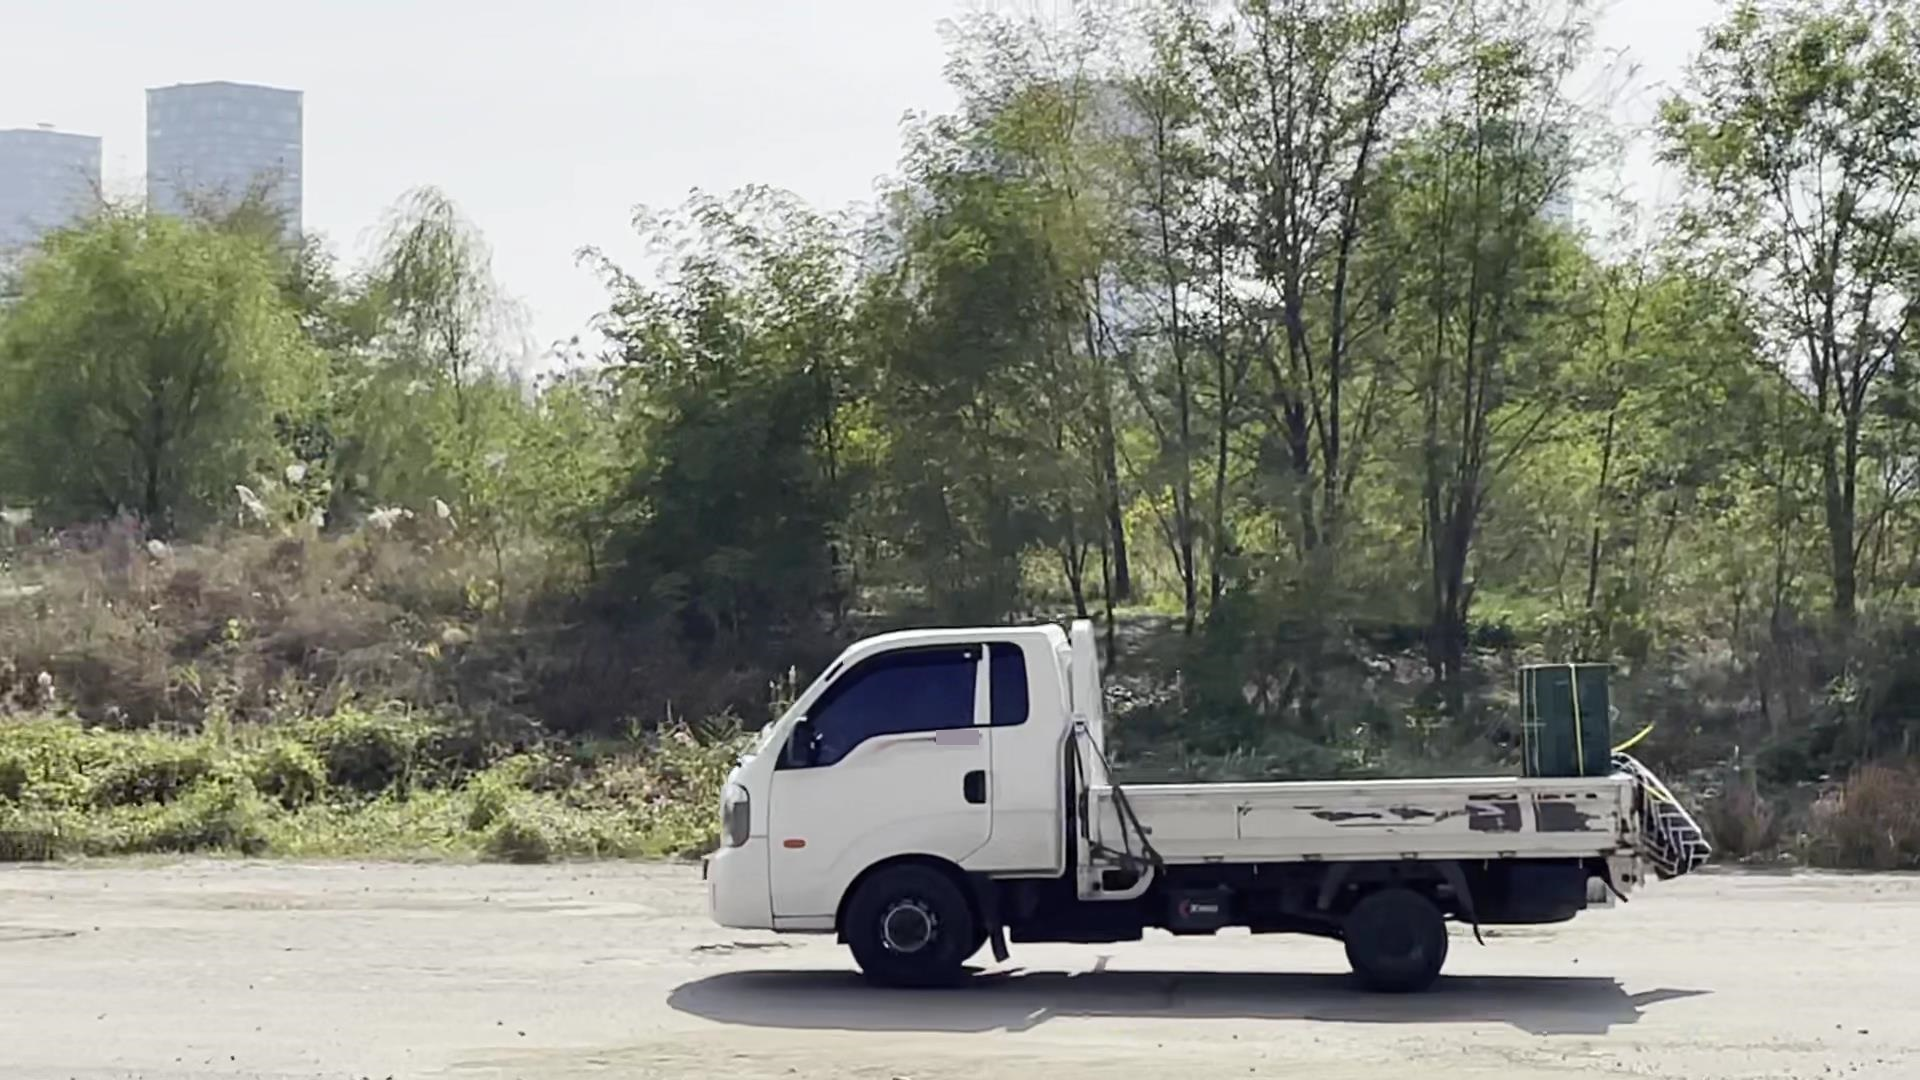불법차량: (702, 619, 1712, 992)
